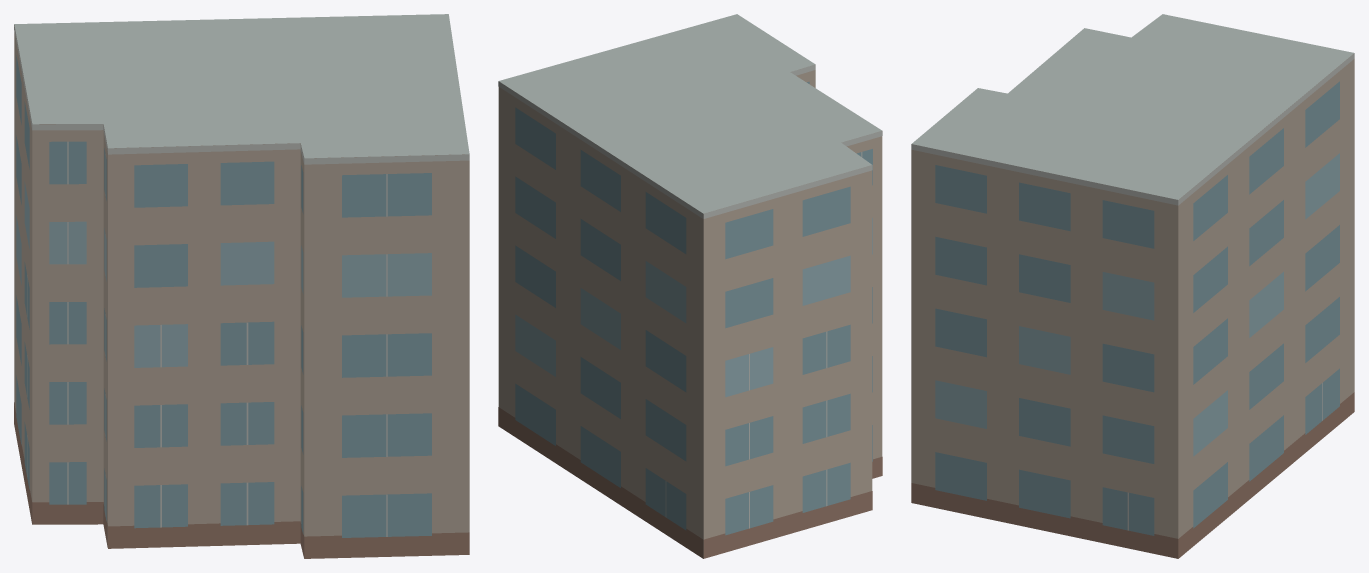
The model's file is survey-upis-32881812.glb.
The picture shows the model from 3 angles, left to right: view 1: azimuth 30°, elevation 25°; view 2: azimuth 150°, elevation 25°; view 3: azimuth 270°, elevation 25°; orthographic projection. The views are drawn at different scales.
Parts seen in each view (by area): view 1: survey-upis-32881812.tmp; view 2: survey-upis-32881812.tmp; view 3: survey-upis-32881812.tmp.
Part boxes in pixels (box(x1,y1,x2,y2)): survey-upis-32881812.tmp: box(14, 14, 469, 558); survey-upis-32881812.tmp: box(498, 14, 882, 558); survey-upis-32881812.tmp: box(911, 14, 1354, 558).
Bounding box in the file's own units: 17.23 × 15.5 × 17.35.
